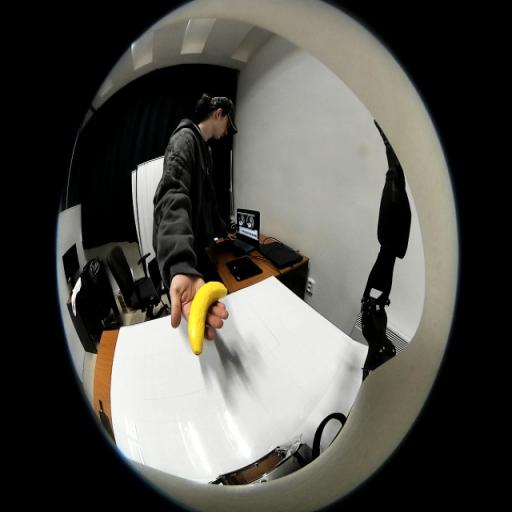Banana: (188, 282, 228, 356)
